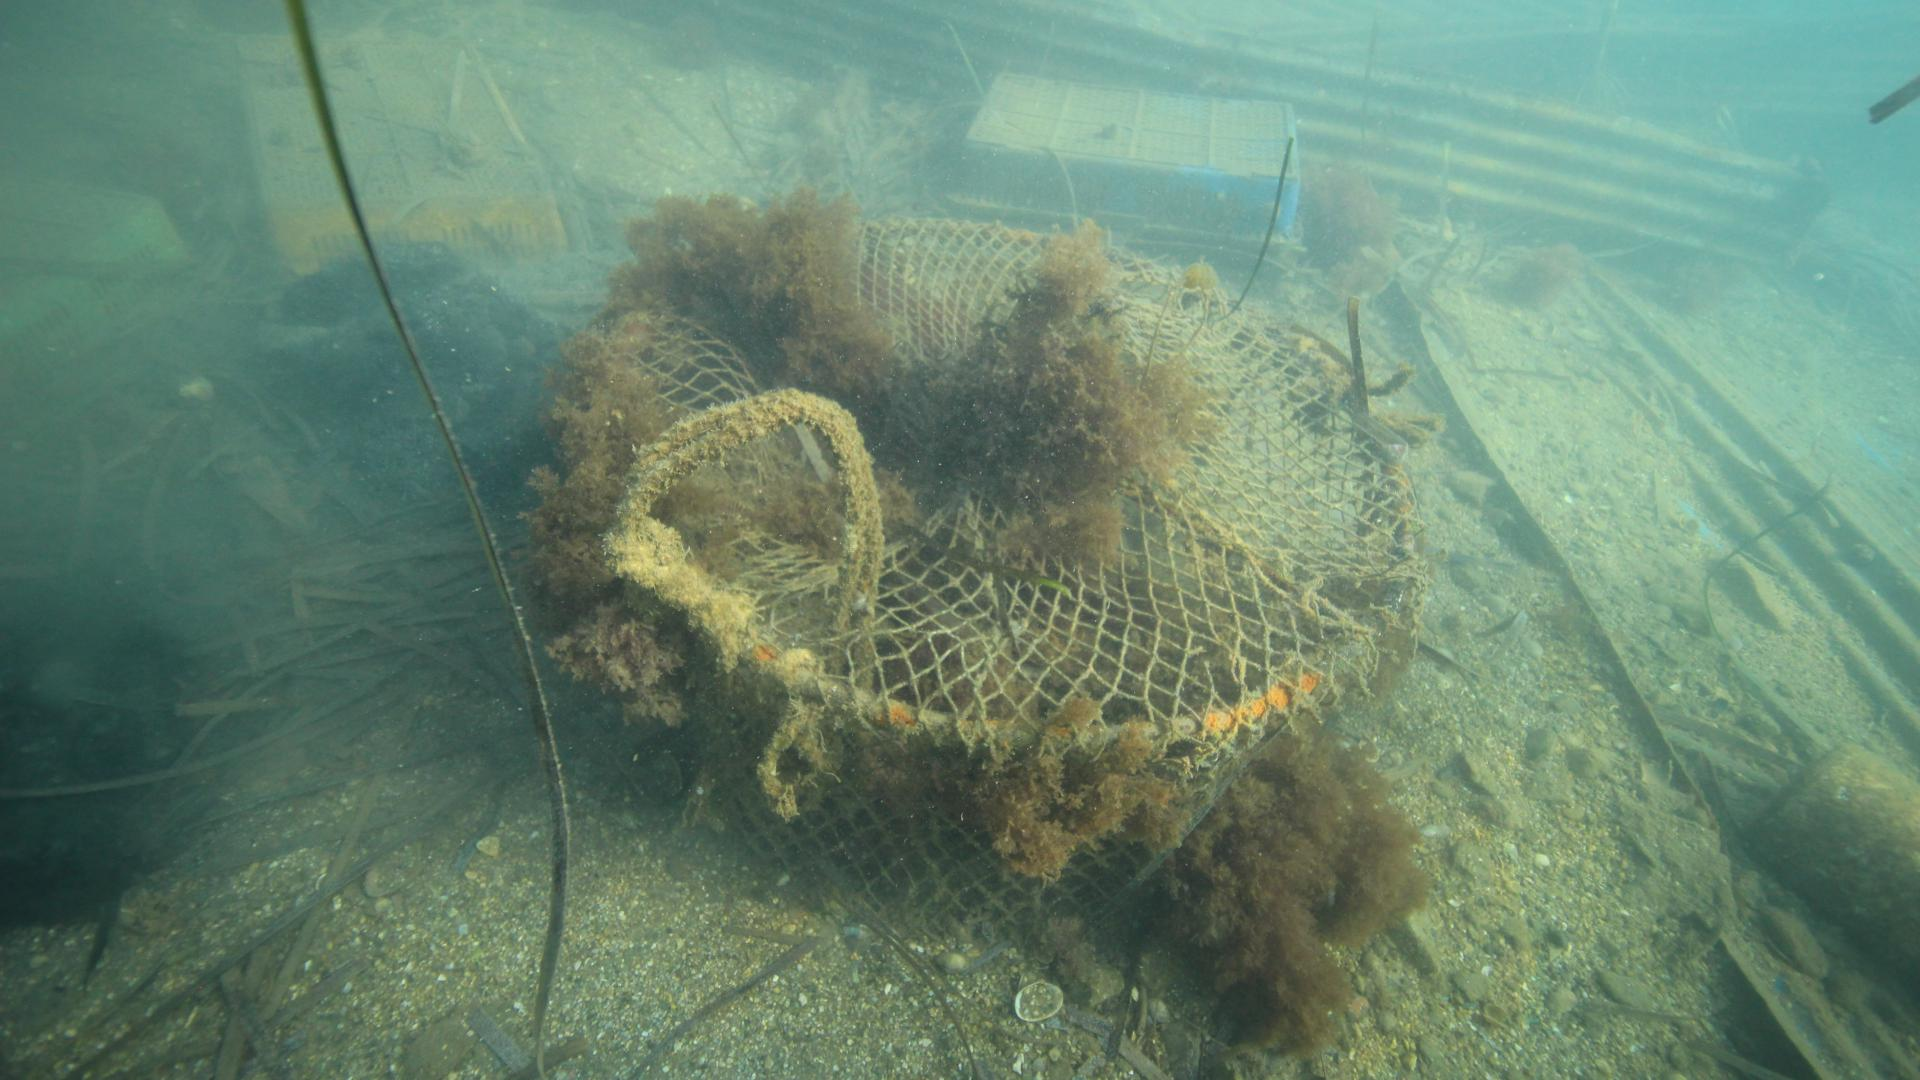circular fish trap: (580, 215, 1418, 942)
